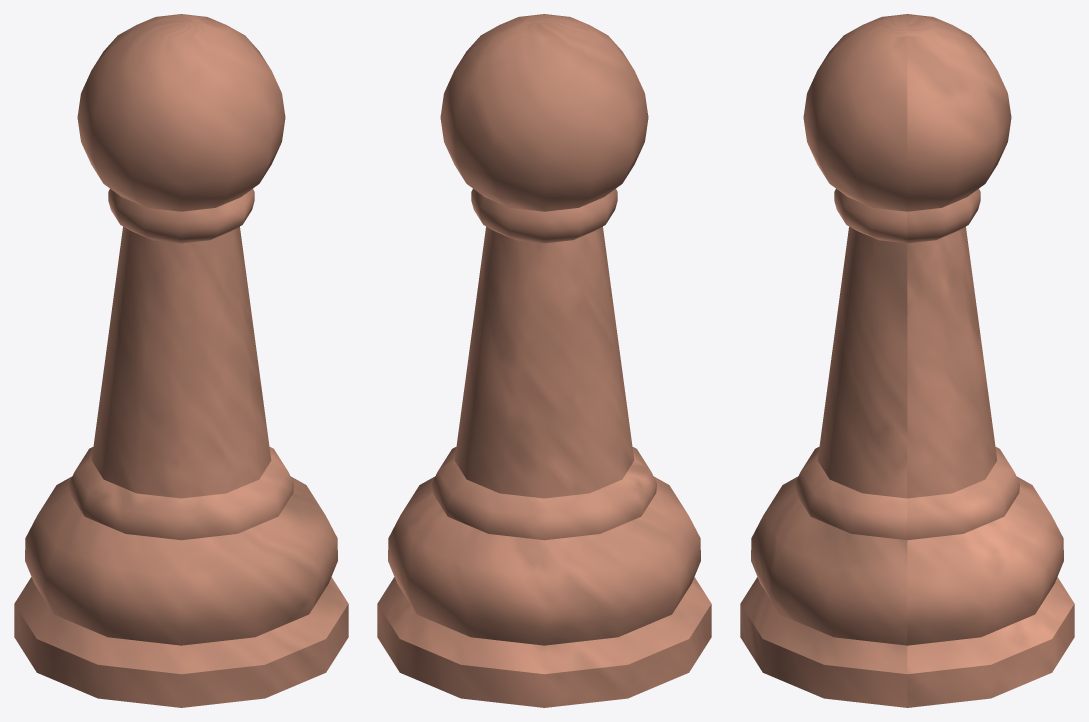
Rendered from Chess_White_pawn.fbx.
3 views of the same model, side by side, from view 1: azimuth 30°, elevation 25°; view 2: azimuth 150°, elevation 25°; view 3: azimuth 270°, elevation 25° (orthographic).
Visible parts, largest first — view 1: Chess_pawn.009; view 2: Chess_pawn.009; view 3: Chess_pawn.009.
Boxes of the visible parts, x1=… form: Chess_pawn.009: x1=14, y1=14, x2=348, y2=707; Chess_pawn.009: x1=377, y1=14, x2=711, y2=707; Chess_pawn.009: x1=740, y1=14, x2=1074, y2=707.
Bounding box in the file's own units: 22.17 × 44.95 × 22.17.
